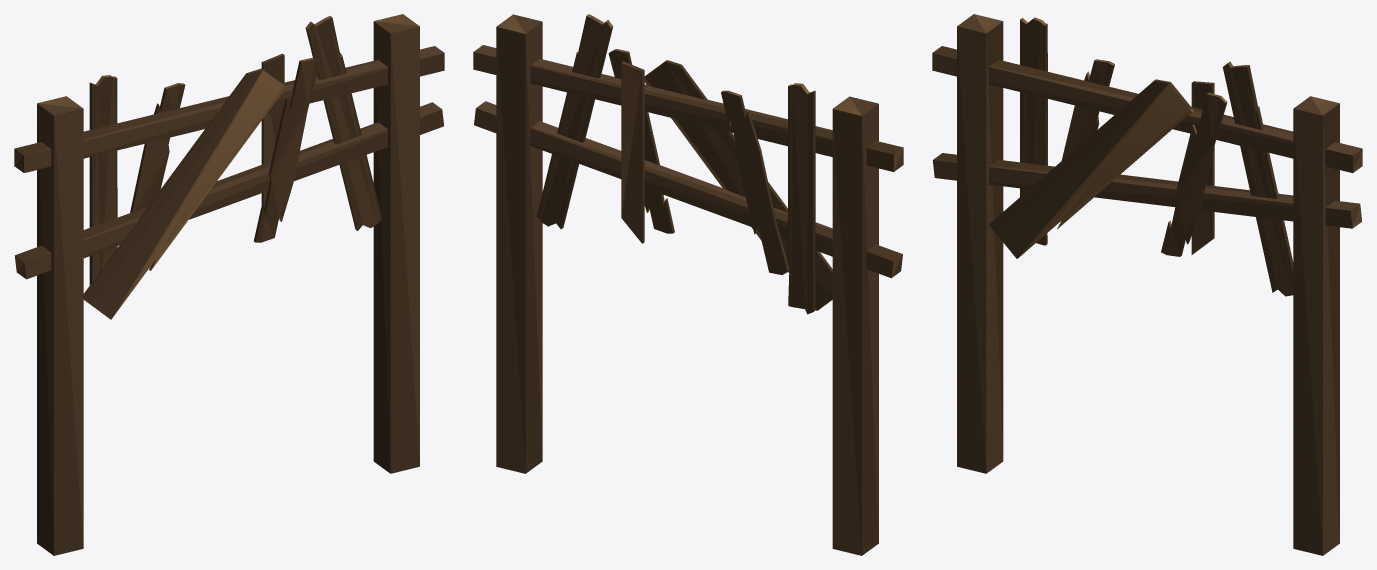
Rendered from Wood_9B_Lod1.fbx.
The picture shows the model from 3 angles, left to right: view 1: azimuth 30°, elevation 25°; view 2: azimuth 150°, elevation 25°; view 3: azimuth 330°, elevation 25°; orthographic projection.
Visible parts, largest first — view 1: polySurface1100; view 2: polySurface1100; view 3: polySurface1100.
Boxes of the visible parts, x1=… form: polySurface1100: x1=14, y1=14, x2=444, y2=555; polySurface1100: x1=473, y1=14, x2=903, y2=555; polySurface1100: x1=932, y1=14, x2=1362, y2=555.
Bounding box in the file's own units: 1000 × 1056 × 70.
Materials: 1 (1 with a texture image).
